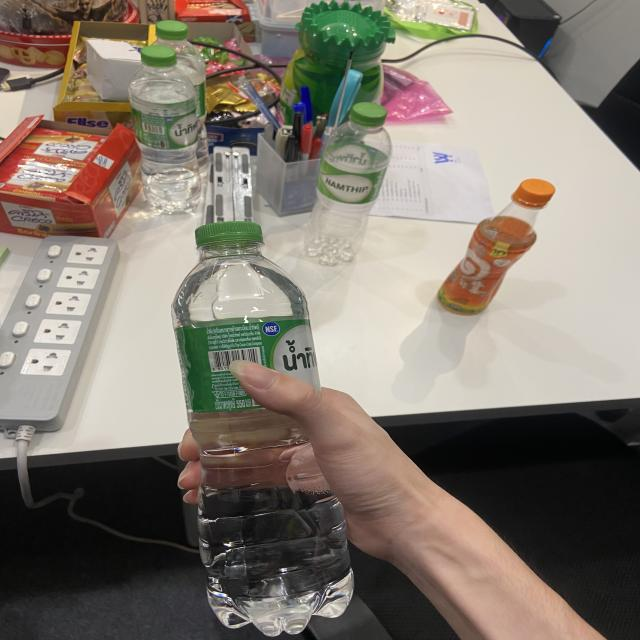bottle: (169, 218, 355, 638), (435, 176, 558, 314), (304, 102, 394, 268), (127, 45, 205, 214)
